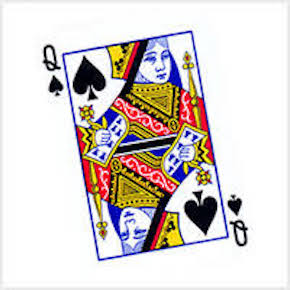QueenOfSpades: (18, 18, 270, 278)
